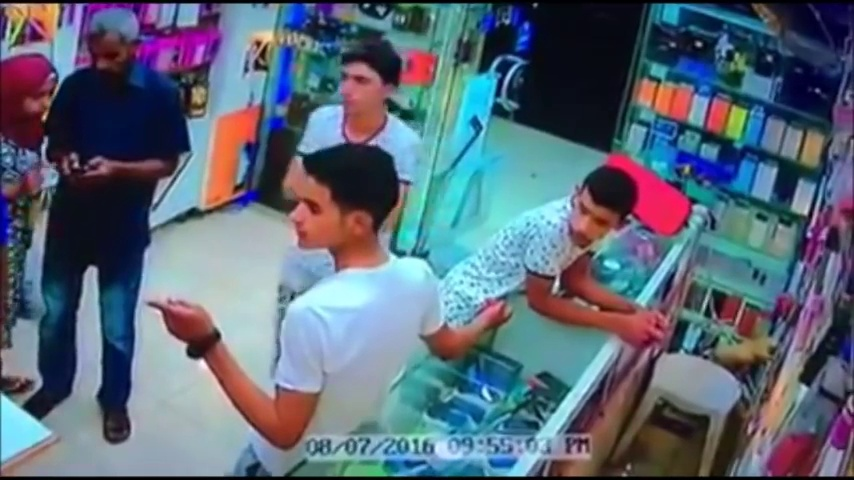face: (287, 177, 344, 250), (570, 187, 619, 246), (85, 33, 131, 81), (338, 67, 382, 117)
